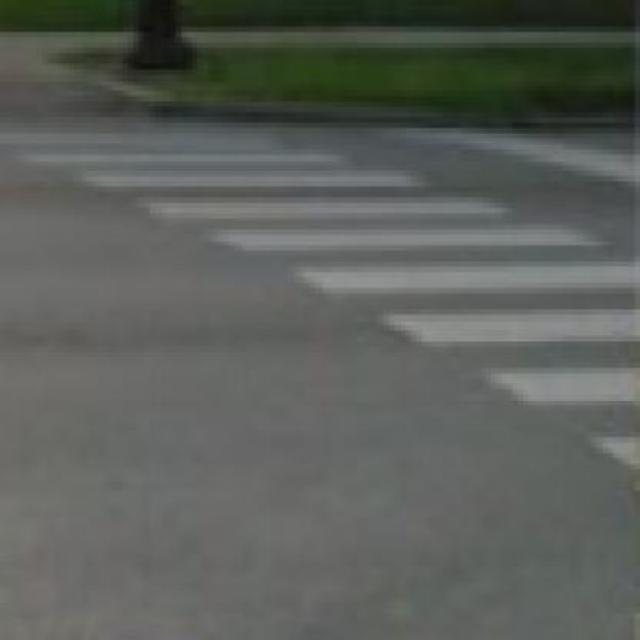crosswalk: (2, 126, 640, 472)
